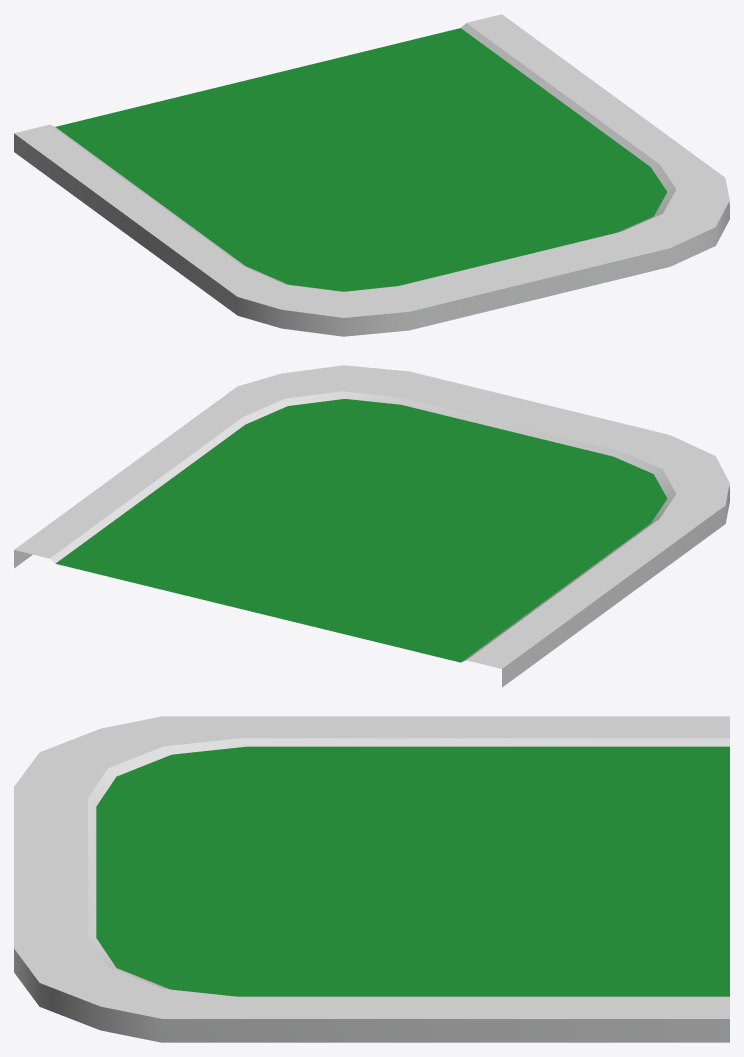
The model's file is GrassBed_1_A_8.glb.
The picture shows the model from 3 angles, top to bottom: view 1: azimuth 30°, elevation 25°; view 2: azimuth 150°, elevation 25°; view 3: azimuth 270°, elevation 25°; orthographic projection. The views are drawn at different scales.
Parts seen in each view (by area): view 1: GrassBed_1_A_8; view 2: GrassBed_1_A_8; view 3: GrassBed_1_A_8.
Part boxes in pixels (left/top/right/bottom): GrassBed_1_A_8: left=14, top=14, right=729, bottom=336; GrassBed_1_A_8: left=14, top=365, right=729, bottom=687; GrassBed_1_A_8: left=14, top=716, right=729, bottom=1042.
Size of the model in its own units: 2 by 0.0732 by 2.
Materials: 1 (1 with a texture image).
